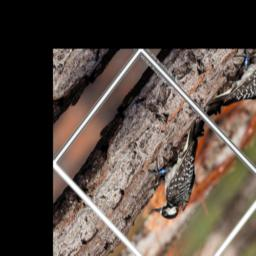Woodpecker: (125, 104, 234, 236)
